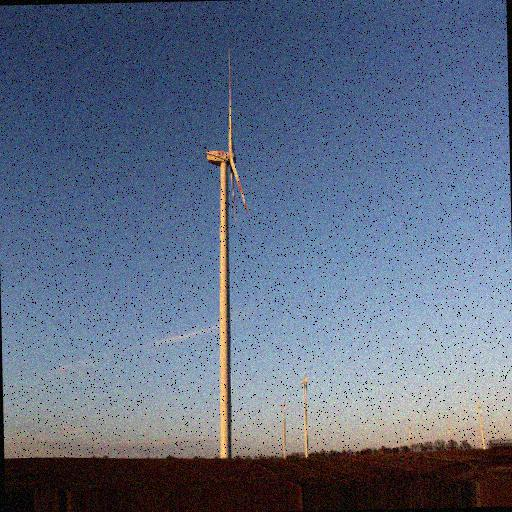wind turbine: (205, 46, 252, 460)
